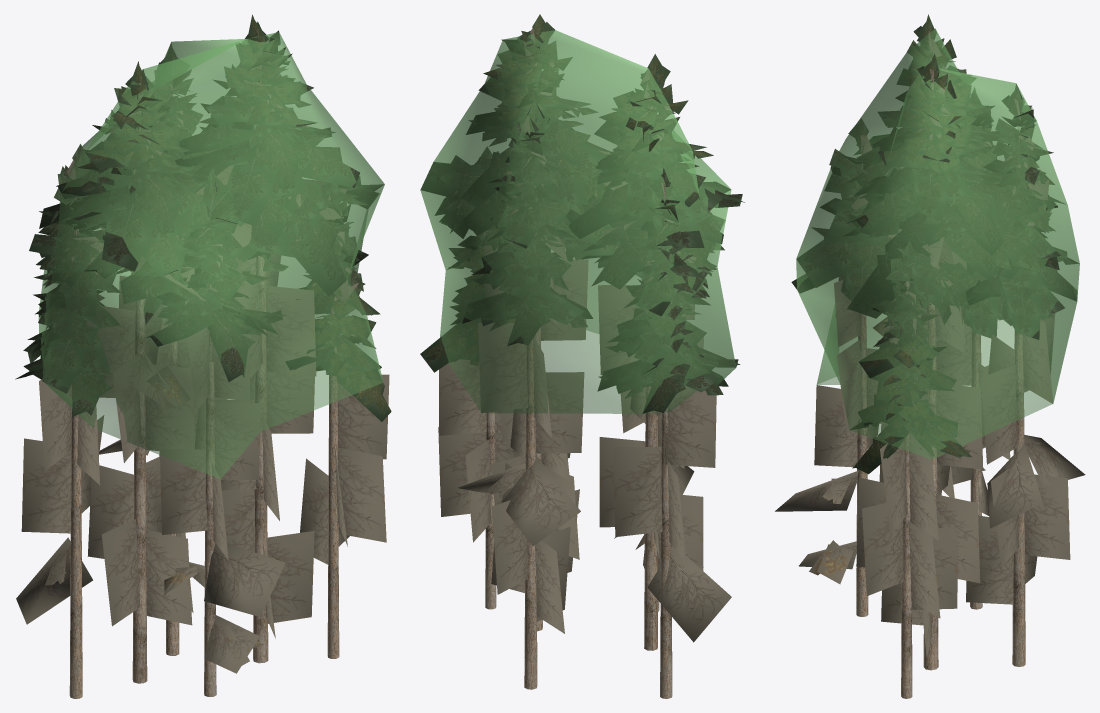
File: tree_douglasfir_group.dae
3 renders of one model, left to right at view 1: azimuth 30°, elevation 25°; view 2: azimuth 150°, elevation 25°; view 3: azimuth 270°, elevation 25°, orthographic. The views are drawn at different scales.
Parts seen in each view (by area): view 1: Colmesh_forest_group-1, tree_douglasfir_forest_group_a1500, tree_douglasfir_forest_group_a1000; view 2: Colmesh_forest_group-1, tree_douglasfir_forest_group_a1500, tree_douglasfir_forest_group_a1000; view 3: Colmesh_forest_group-1, tree_douglasfir_forest_group_a1000, tree_douglasfir_forest_group_a1500.
Boxes of the visible parts, x1,y1,x2,y2 form: Colmesh_forest_group-1: [38, 32, 384, 698]; tree_douglasfir_forest_group_a1500: [15, 14, 391, 673]; tree_douglasfir_forest_group_a1000: [16, 17, 383, 644]; Colmesh_forest_group-1: [420, 30, 736, 698]; tree_douglasfir_forest_group_a1500: [425, 14, 742, 642]; tree_douglasfir_forest_group_a1000: [420, 14, 744, 641]; Colmesh_forest_group-1: [796, 28, 1079, 698]; tree_douglasfir_forest_group_a1000: [775, 14, 1085, 657]; tree_douglasfir_forest_group_a1500: [791, 15, 1083, 563].
Size of the model in its own units: 12.8 by 10.72 by 23.81.
